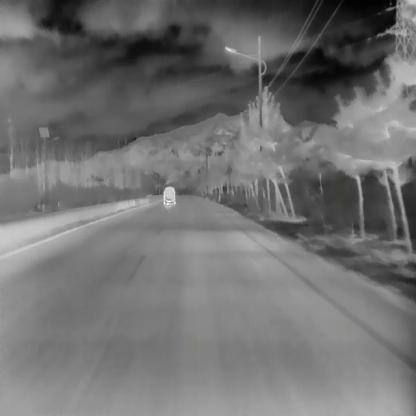car: (162, 185, 175, 206)
